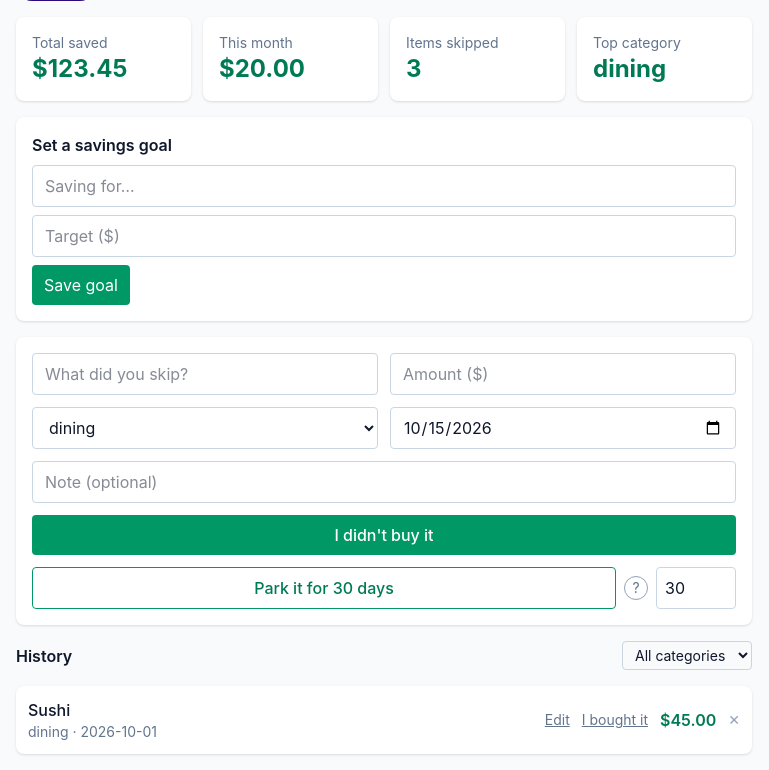
Test case: App › offers Undo after deleting an entry and re-creates it
(page scrolled)
Click the button named "Delete Sushi".
click(734, 720)  # box [728, 710, 740, 730]
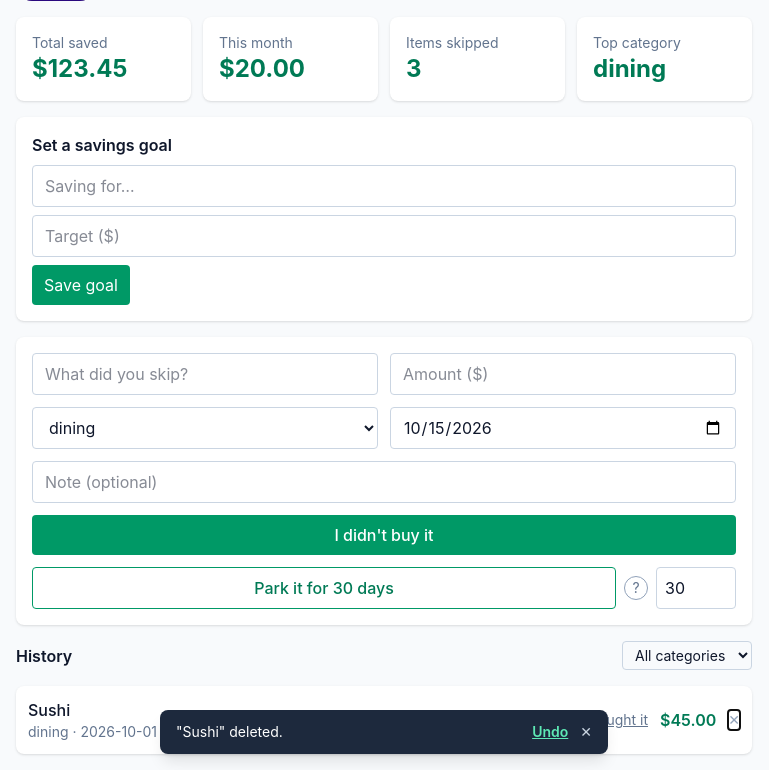
Now the text "\"Sushi\" deleted." is shown, box [176, 722, 283, 742]
Click the button "Undo".
click(550, 732)  # box [532, 722, 568, 742]
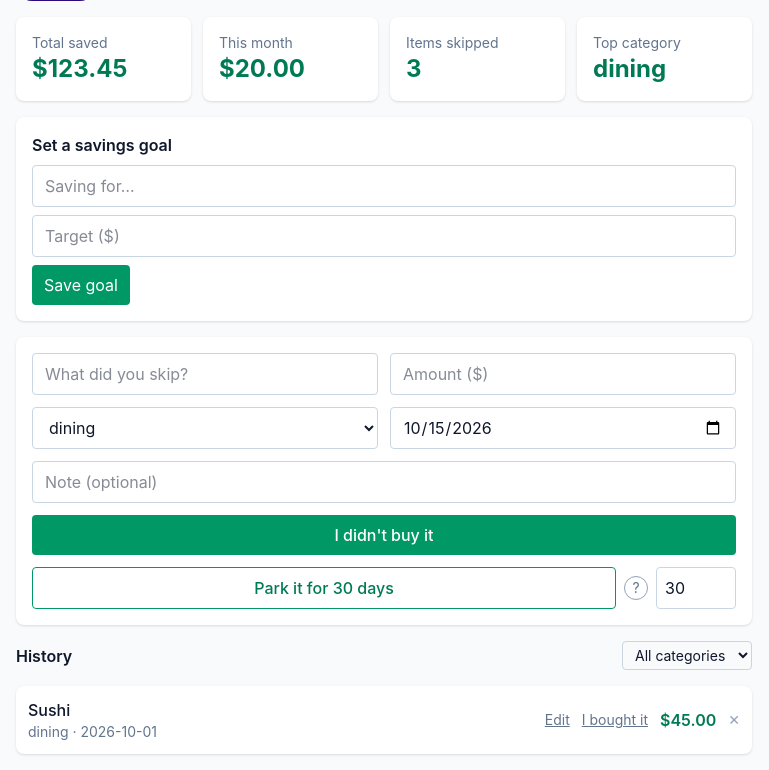
Now the text "\"Sushi\" deleted." is gone
